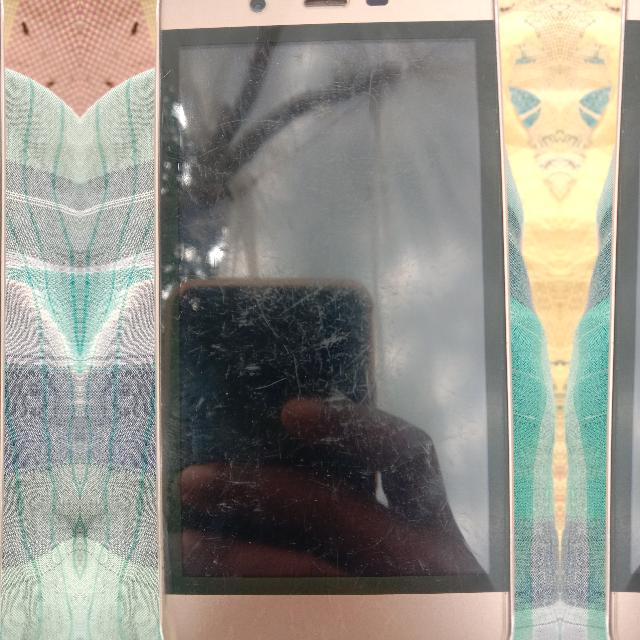phone_screen: (161, 26, 507, 592), (612, 113, 639, 590)
